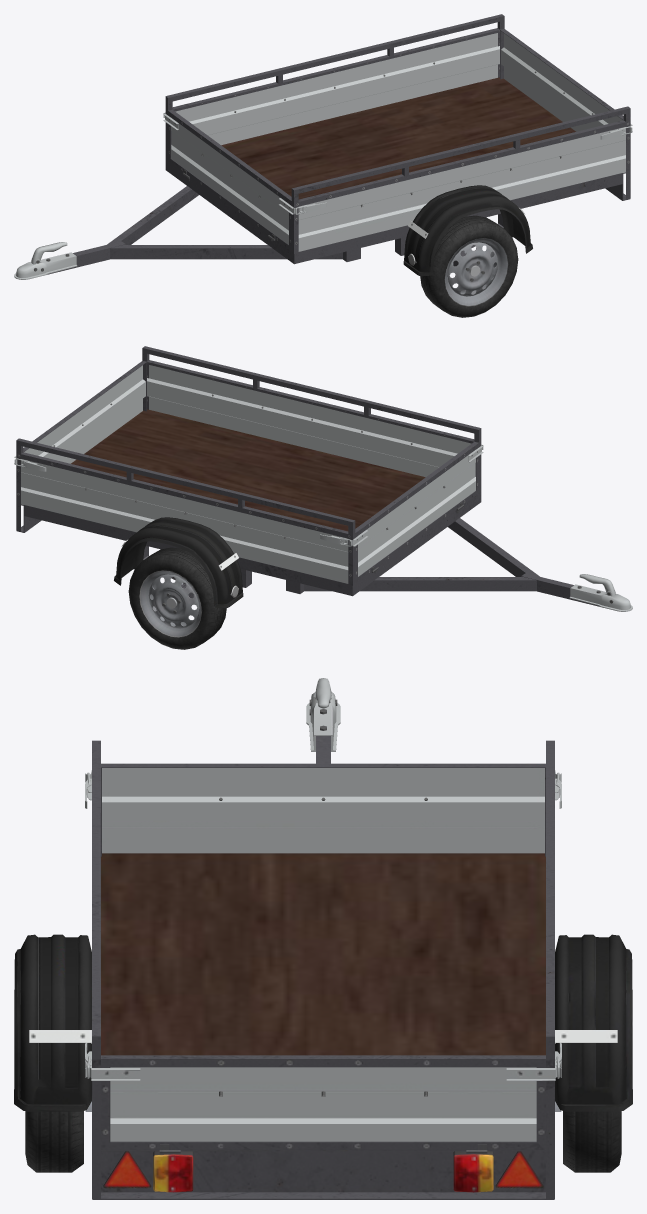
The model's file is car_trailer_r.glb.
The picture shows the model from 3 angles, top to bottom: view 1: azimuth 30°, elevation 25°; view 2: azimuth 150°, elevation 25°; view 3: azimuth 270°, elevation 25°; orthographic projection. The views are drawn at different scales.
Parts seen in each view (by area): view 1: Sheet.001.L, Sheet.004.L, Koleso.002L, rama.012.L, rama.004.L, Sheet.003.L, Fender.001.L, Sheet.002.L, rama.002.L, rama.006.L, rama.005.L, Bracket.002.L (+2 smaller); view 2: Sheet.001.L, Sheet.004.L, Koleso.002L, rama.012.L, rama.004.L, Sheet.003.L, Fender.001.L, Sheet.002.L, rama.002.L, rama.006.L, rama.005.L, Bracket.002.L (+2 smaller); view 3: Sheet.004.L, Sheet.003.L, Sheet.002.L, Fender.001.L, rama.001.L, rama.007.L, Koleso.002L, rama.012.L, Reflector.004, rama.005.L, rama.004.L, Reflector.006 (+3 smaller).
Boxes of the visible parts, x1,y1,x2,y2 form: Sheet.001.L: (175,33,625,251); Sheet.004.L: (221,77,575,199); Koleso.002L: (420,215,518,317); rama.012.L: (165,14,630,203); rama.004.L: (165,28,630,253); Sheet.003.L: (171,119,288,244); Fender.001.L: (403,185,532,276); Sheet.002.L: (501,33,622,131); rama.002.L: (107,186,360,261); rama.006.L: (165,160,622,264); rama.005.L: (168,109,291,251); Bracket.002.L: (14,252,77,279); Sheet.001.L: (21,365,471,583); Sheet.004.L: (71,409,425,531); Koleso.002L: (128,547,226,649); rama.012.L: (16,346,481,535); rama.004.L: (16,360,481,585); Sheet.003.L: (358,451,475,576); Fender.001.L: (114,517,243,608); Sheet.002.L: (24,365,145,463); rama.002.L: (286,518,539,593); rama.006.L: (24,492,481,596); rama.005.L: (355,441,478,583); Bracket.002.L: (569,584,632,611); Sheet.004.L: (101,853,545,1055); Sheet.003.L: (102,768,544,853); Sheet.002.L: (110,1067,536,1141); Fender.001.L: (14,934,632,1111); rama.001.L: (92,1150,554,1199); rama.007.L: (101,1055,545,1149); Koleso.002L: (25,1111,621,1172); rama.012.L: (92,740,554,1059); Reflector.004: (153,1151,493,1192); rama.005.L: (101,763,545,856); rama.004.L: (92,1059,554,1198); Reflector.006: (103,1151,543,1188).
Bounding box in the file's own units: 313 × 83.98 × 169.
Materials: 1 (1 with a texture image).
